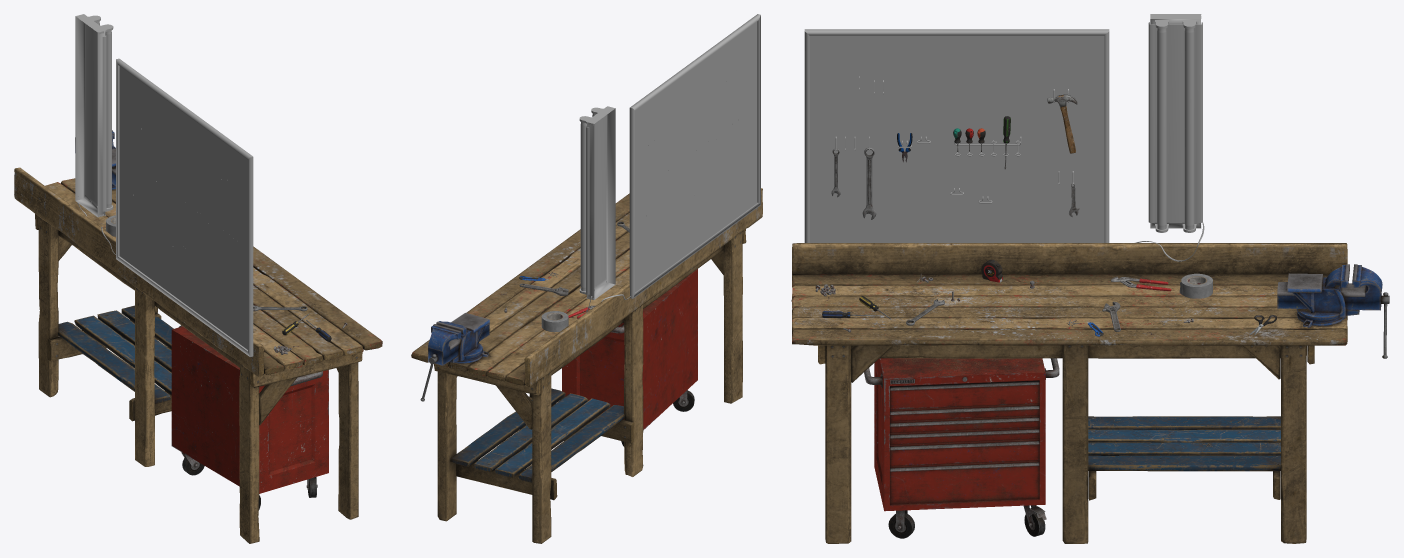
The model's file is Workbench_Combined_low_1.fbx.
3 renders of one model, left to right at view 1: azimuth 30°, elevation 25°; view 2: azimuth 150°, elevation 25°; view 3: azimuth 270°, elevation 25°, orthographic. The views are drawn at different scales.
Visible parts, largest first — view 1: Pegboard_Sheet_low, Tool_Cabinet_Body_low, Workbench_Group_1_low, Workbench_Group_5_low, Workbench_Group_2_low, Pegboard_Frame_low, Light_Fixture_Base_low, Light_Fixture_Plate_low, Workbench_Group_3_low, Workbench_Group_4_low, Light_Fixture_Bulbs_low; view 2: Pegboard_Sheet_low, Workbench_Group_1_low, Workbench_Group_5_low, Tool_Cabinet_Body_low, Workbench_Group_2_low, Pegboard_Frame_low, Workbench_Group_3_low, Light_Fixture_Base_low, Light_Fixture_Plate_low, Vice_Base_low, Vice_Slide_low, Light_Fixture_Bulbs_low (+2 smaller); view 3: Pegboard_Sheet_low, Workbench_Group_1_low, Workbench_Group_2_low, Workbench_Group_5_low, Tool_Cabinet_Drawers_low, Tool_Cabinet_Body_low, Light_Fixture_Plate_low, Workbench_Group_3_low, Pegboard_Frame_low, Light_Fixture_Bulbs_low, Tool_Cabinet_Handles_low, Vice_Base_low (+3 smaller).
Part boxes in pixels (<box>): Pegboard_Sheet_low: <box>119,66,247,349</box>; Tool_Cabinet_Body_low: <box>171,326,328,493</box>; Workbench_Group_1_low: <box>14,167,382,395</box>; Workbench_Group_5_low: <box>38,217,358,543</box>; Workbench_Group_2_low: <box>58,178,363,403</box>; Pegboard_Frame_low: <box>116,58,253,356</box>; Light_Fixture_Base_low: <box>75,16,105,216</box>; Light_Fixture_Plate_low: <box>85,24,106,211</box>; Workbench_Group_3_low: <box>47,230,296,425</box>; Workbench_Group_4_low: <box>35,214,362,387</box>; Light_Fixture_Bulbs_low: <box>96,21,111,207</box>; Pegboard_Sheet_low: <box>635,21,757,291</box>; Workbench_Group_1_low: <box>411,188,762,477</box>; Workbench_Group_5_low: <box>437,231,742,543</box>; Tool_Cabinet_Body_low: <box>562,269,697,429</box>; Workbench_Group_2_low: <box>434,212,629,482</box>; Pegboard_Frame_low: <box>629,14,760,298</box>; Workbench_Group_3_low: <box>456,246,723,500</box>; Light_Fixture_Base_low: <box>587,108,615,299</box>; Light_Fixture_Plate_low: <box>586,115,605,294</box>; Vice_Base_low: <box>436,313,489,363</box>; Vice_Slide_low: <box>428,320,489,365</box>; Light_Fixture_Bulbs_low: <box>580,113,595,291</box>; Pegboard_Sheet_low: <box>809,35,1104,242</box>; Workbench_Group_1_low: <box>792,243,1347,471</box>; Workbench_Group_2_low: <box>791,274,1347,455</box>; Workbench_Group_5_low: <box>825,345,1306,543</box>; Tool_Cabinet_Drawers_low: <box>890,380,1039,504</box>; Tool_Cabinet_Body_low: <box>874,358,1045,511</box>; Light_Fixture_Plate_low: <box>1148,22,1202,222</box>; Workbench_Group_3_low: <box>851,344,1306,500</box>; Pegboard_Frame_low: <box>804,29,1109,242</box>; Light_Fixture_Bulbs_low: <box>1157,28,1194,229</box>; Tool_Cabinet_Handles_low: <box>864,358,1059,471</box>; Vice_Base_low: <box>1287,264,1359,327</box>.
Size of the model in its own units: 66.23 by 202 by 236.
